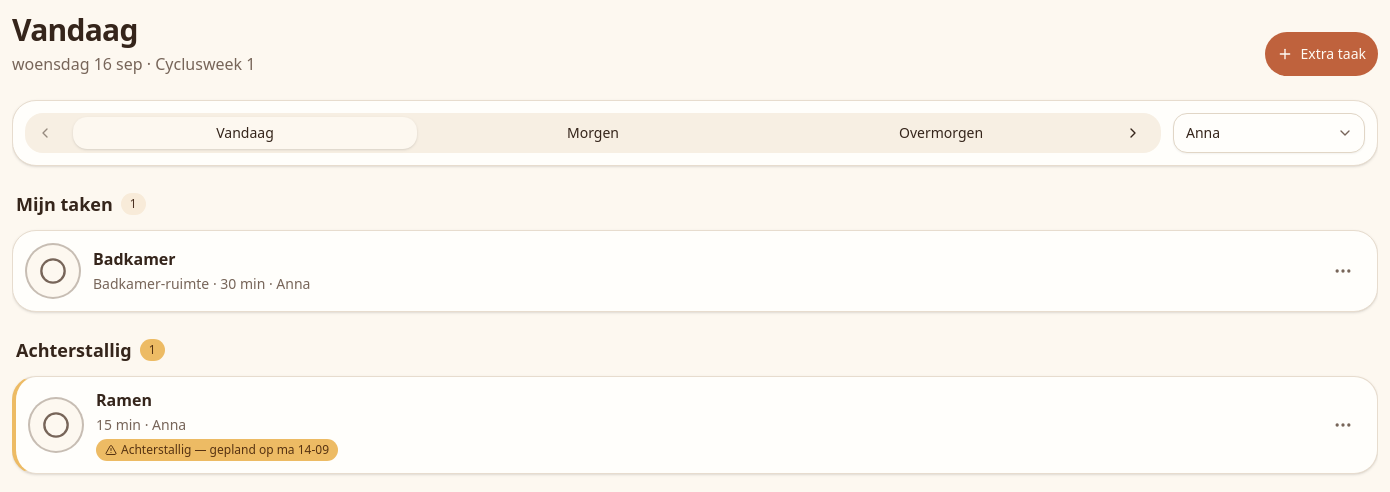
TodayPage › shows the cycle week and browses to tomorrow and the day after tomorrow
Check: the text "woensdag 16 sep · Cyclusweek 1" is shown, box [12,52,255,76]
Check: the button named "Vorige dag" is disabled, box [29,117,61,149]
Click the button "Morgen": (593,133) [421,117,765,149]
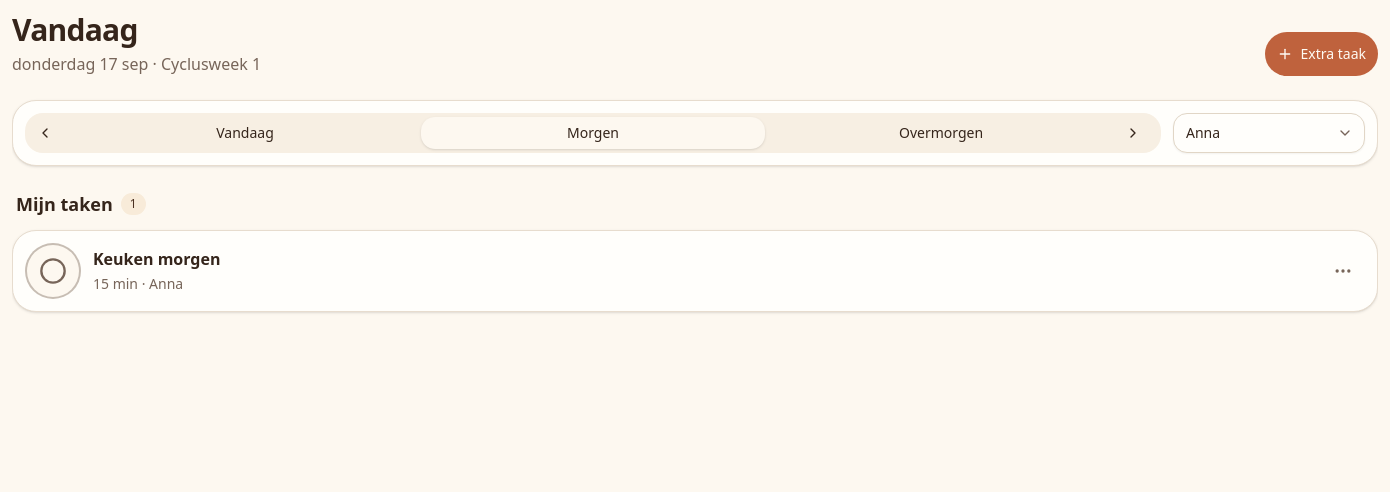
Check: the text "donderdag 17 sep · Cyclusweek 1" is shown, box [12,52,261,76]
Check: the text "Keuken morgen" is shown, box [93,248,220,270]
Check: the text "Badkamer" is gone
Click the button "Overmorgen": (941,133) [769,117,1113,149]
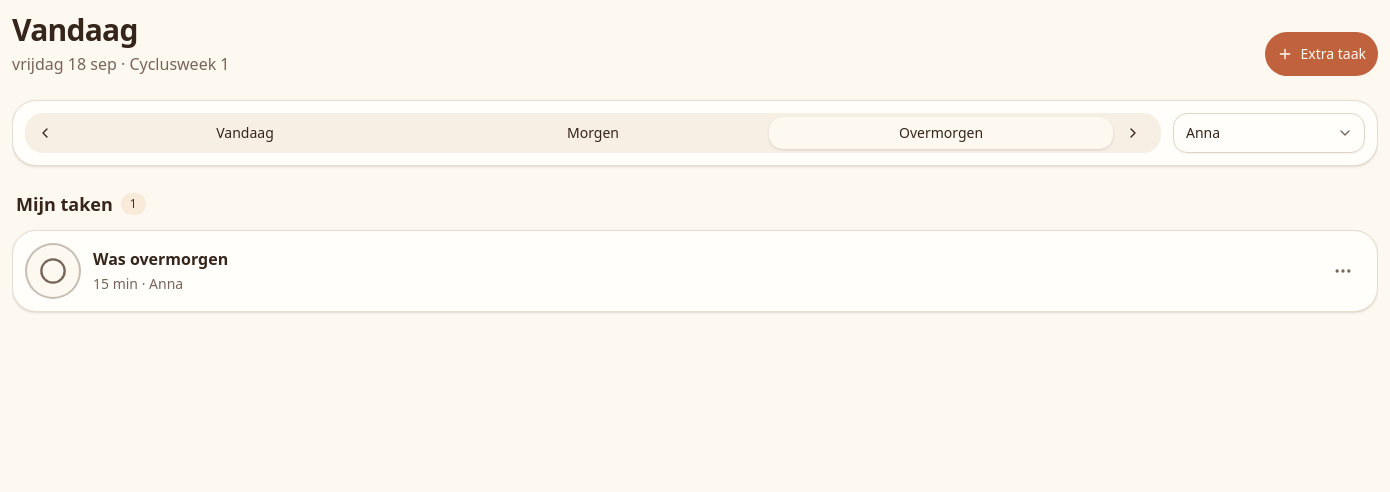
Check: the text "vrijdag 18 sep · Cyclusweek 1" is shown, box [12,52,230,76]
Check: the text "Was overmorgen" is shown, box [93,248,228,270]
Click the button named "Volgende dag": (1133,133) [1117,117,1149,149]
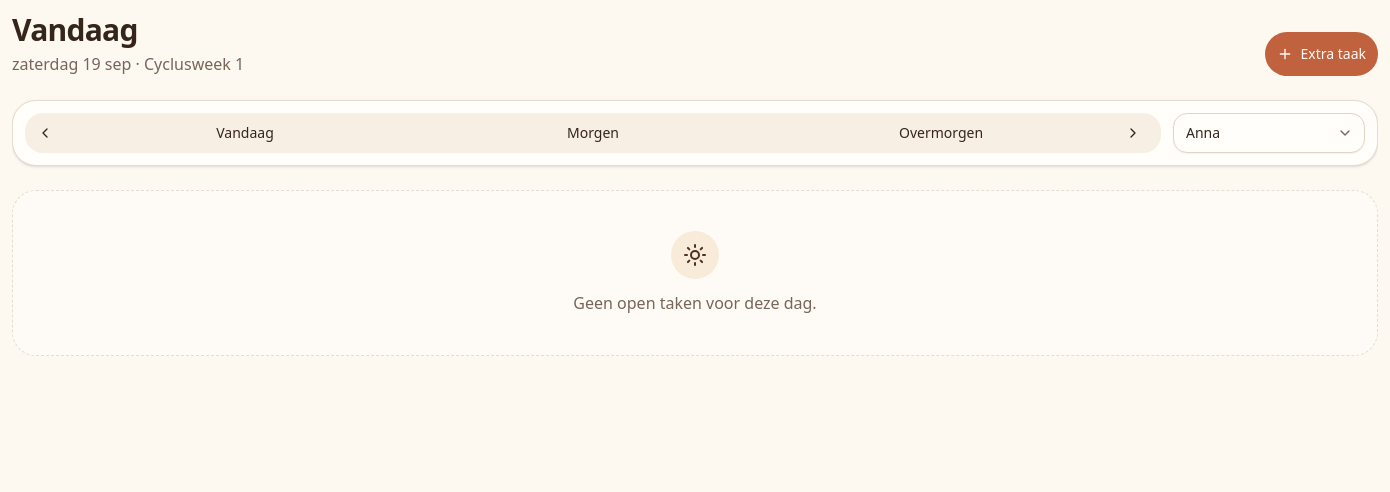
Check: the text "zaterdag 19 sep · Cyclusweek 1" is shown, box [12,52,244,76]
Check: the text "Geen open taken voor deze dag." is shown, box [573,291,817,315]
Click the button named "Vorige dag": (45,133) [29,117,61,149]
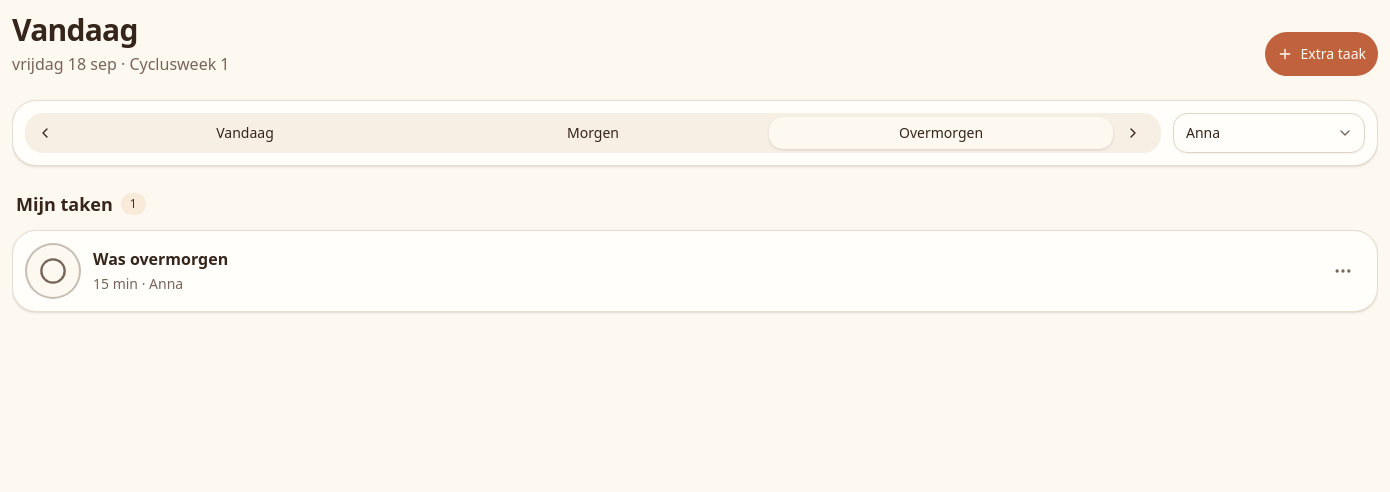
Check: the text "Was overmorgen" is shown, box [93,248,228,270]
